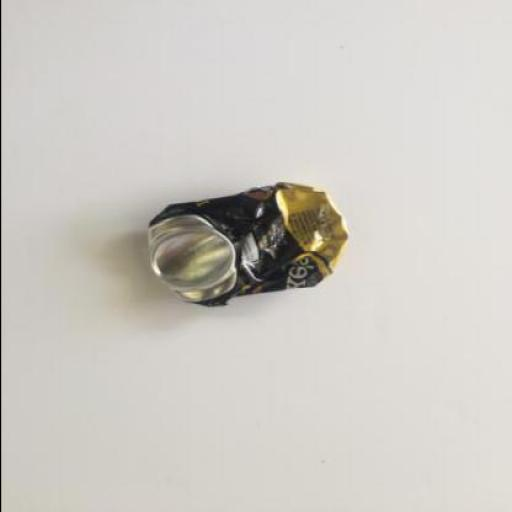metal: (142, 180, 344, 306)
